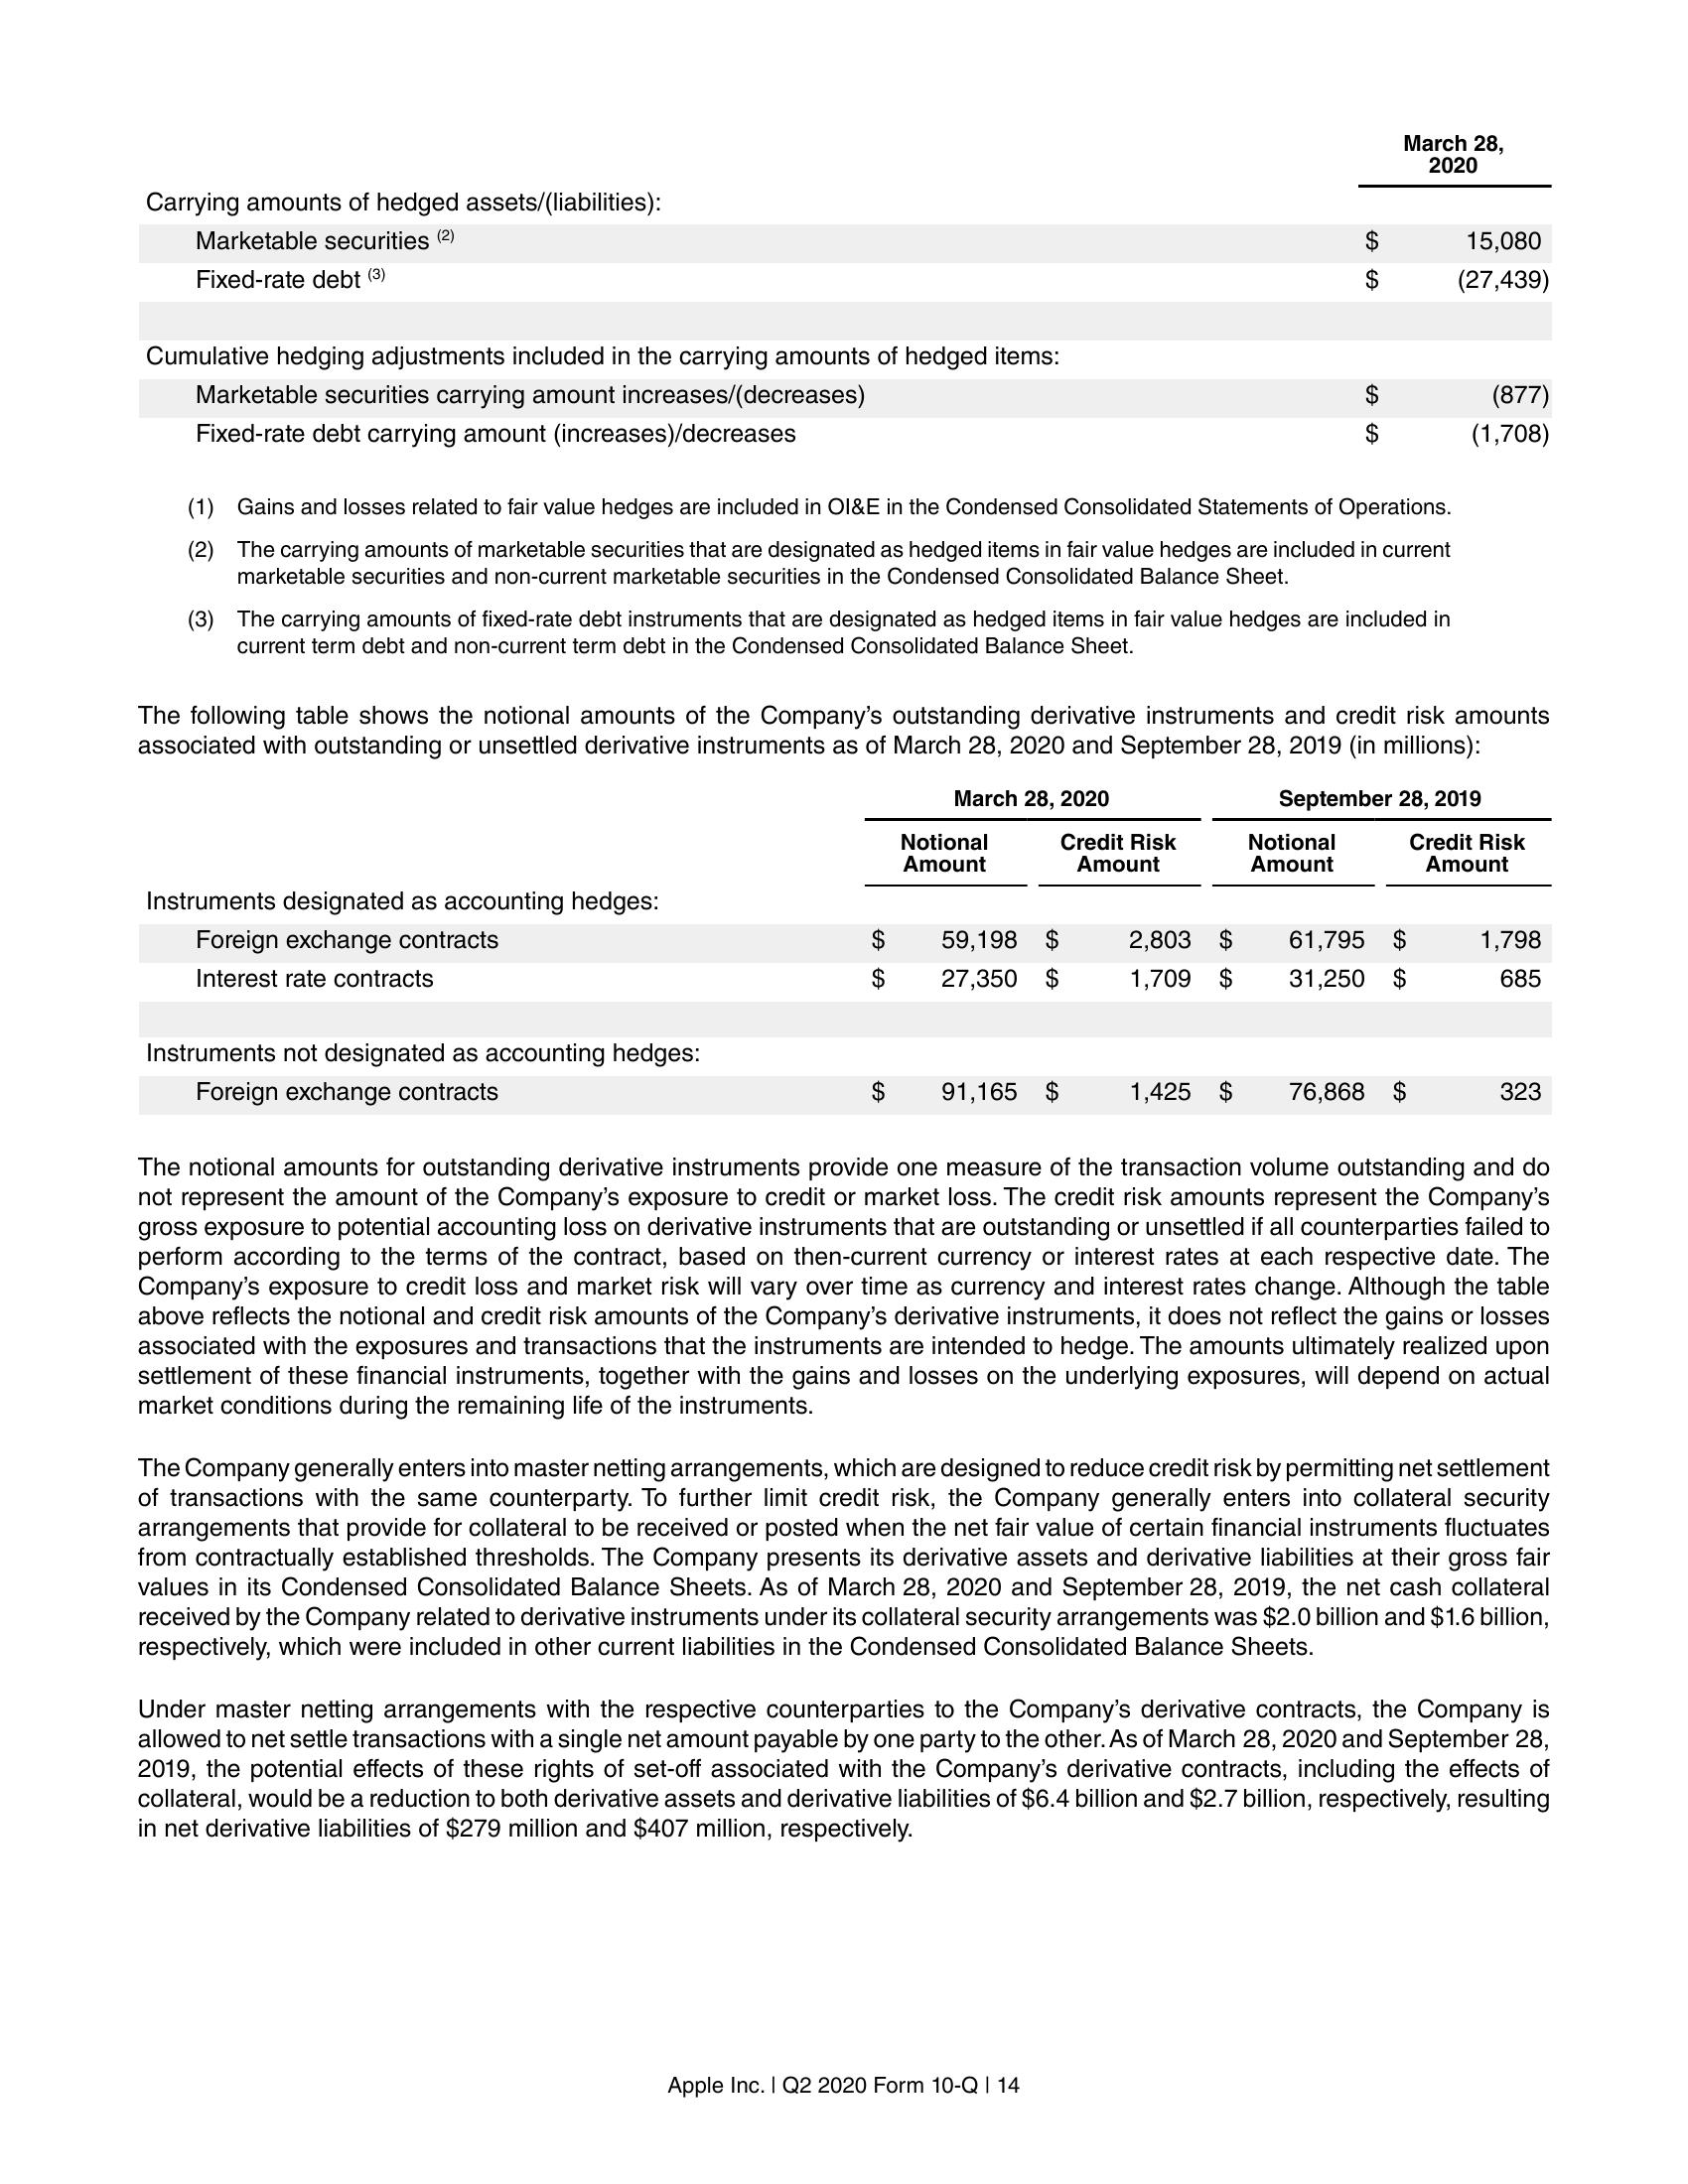table: (135, 784, 1553, 1113), (135, 131, 1560, 454)
